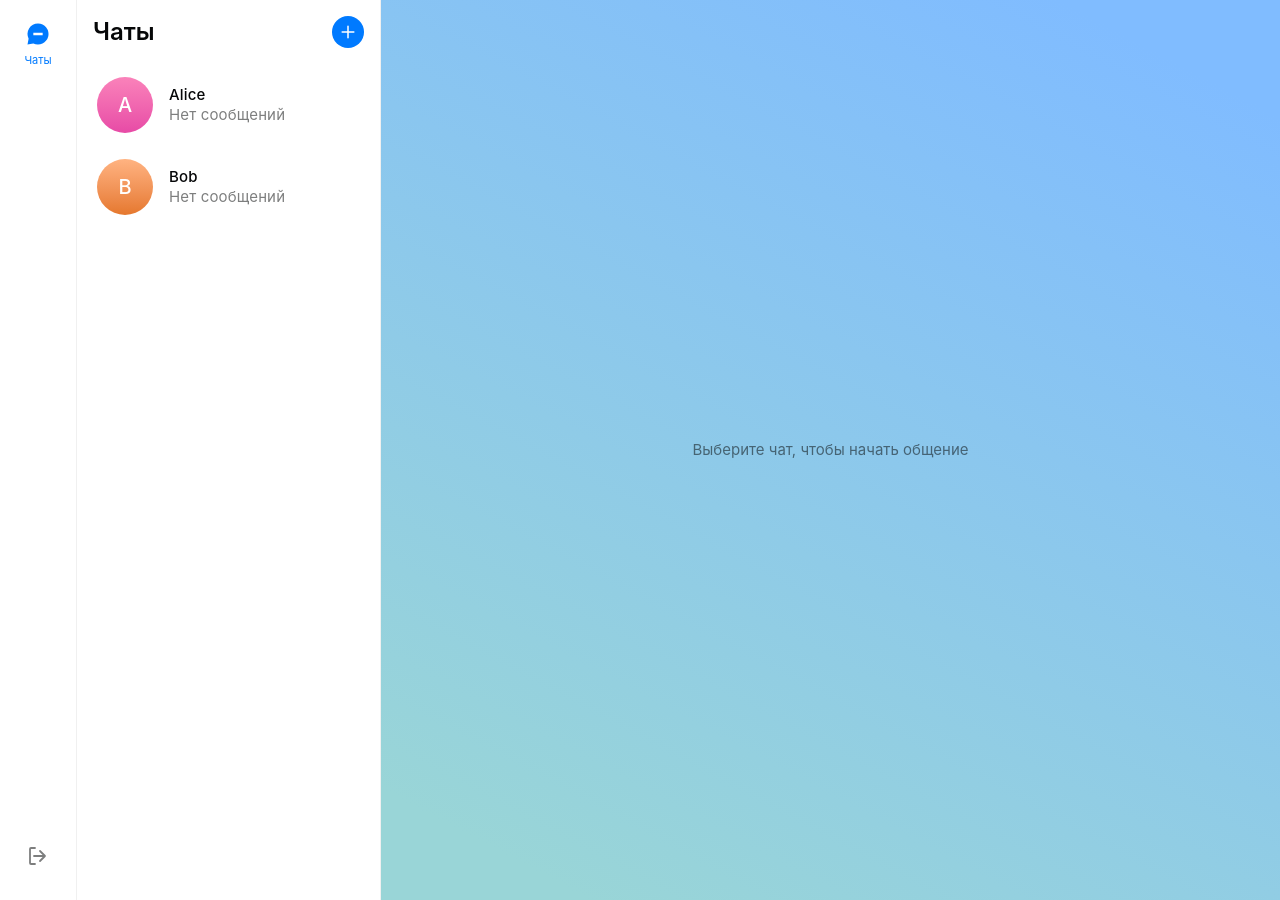
Test: an incoming chat is added without stealing the current selection
Click the button "A Alice Нет сообщений": (228, 105) top-left (77, 64), bottom-right (380, 146)
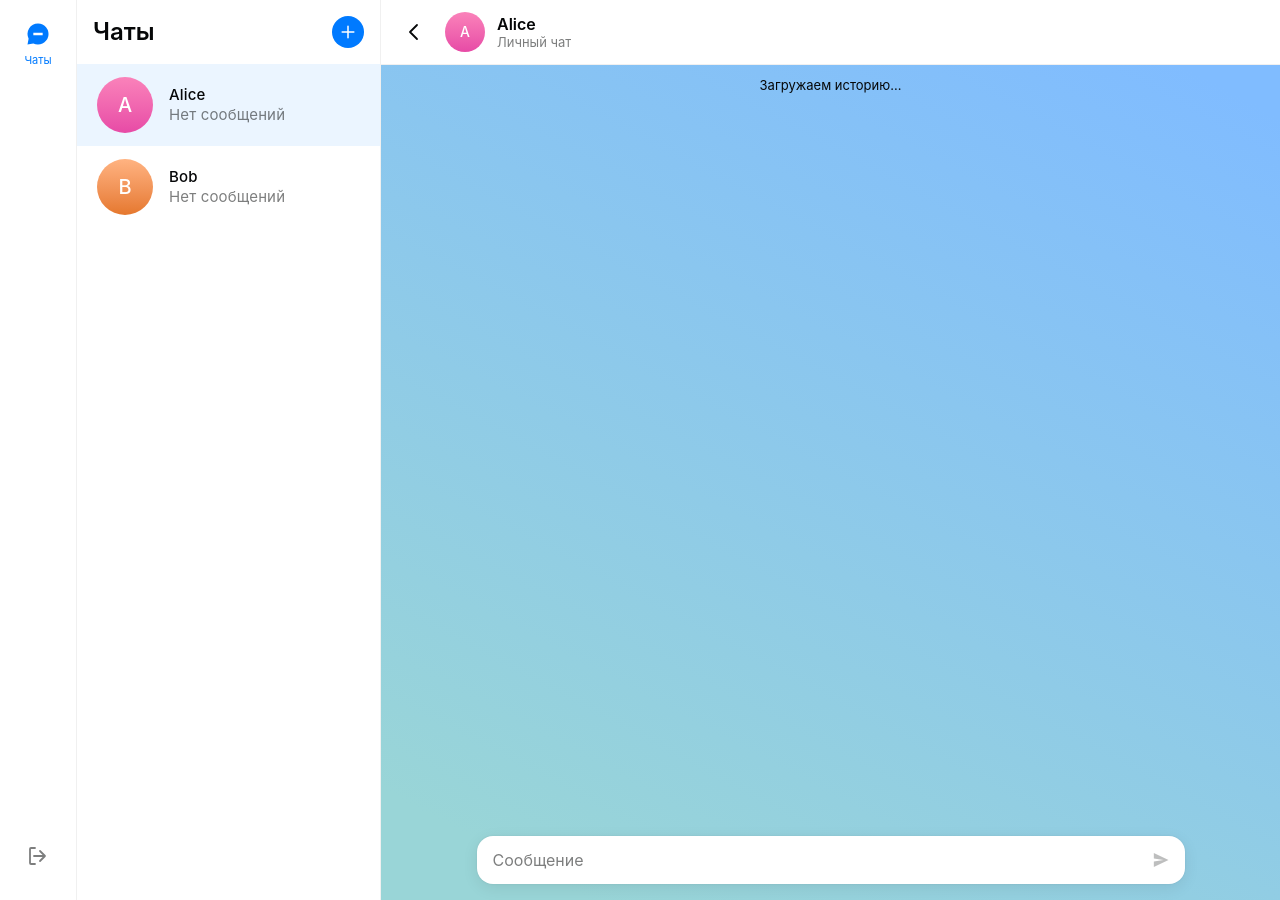
In the text box labelled "Сообщение": (808, 860) top-left (480, 840), bottom-right (1136, 880), type "for Alice"
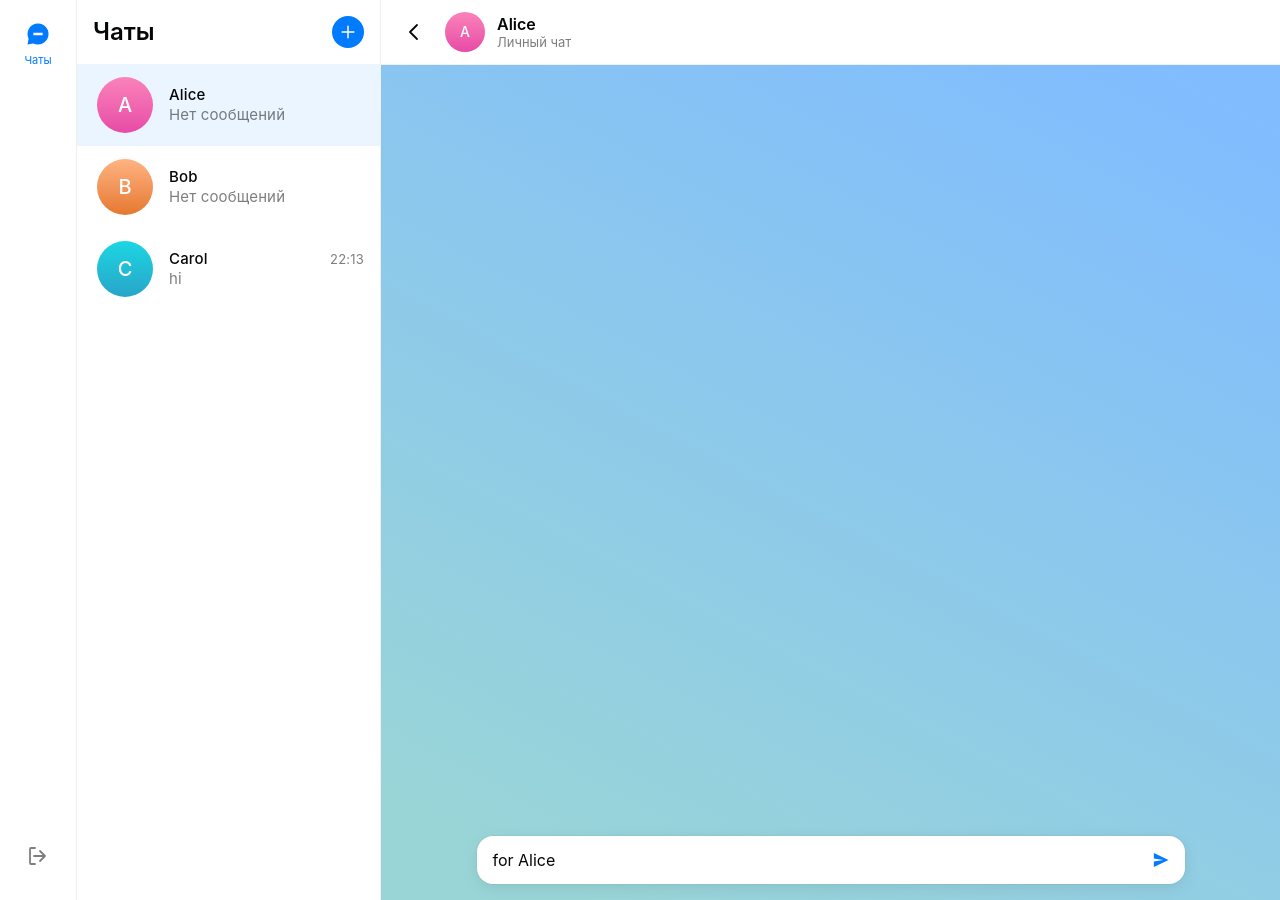
Expected: the button "C Carol 22:13 hi" is shown, top-left (77, 228), bottom-right (380, 310)
